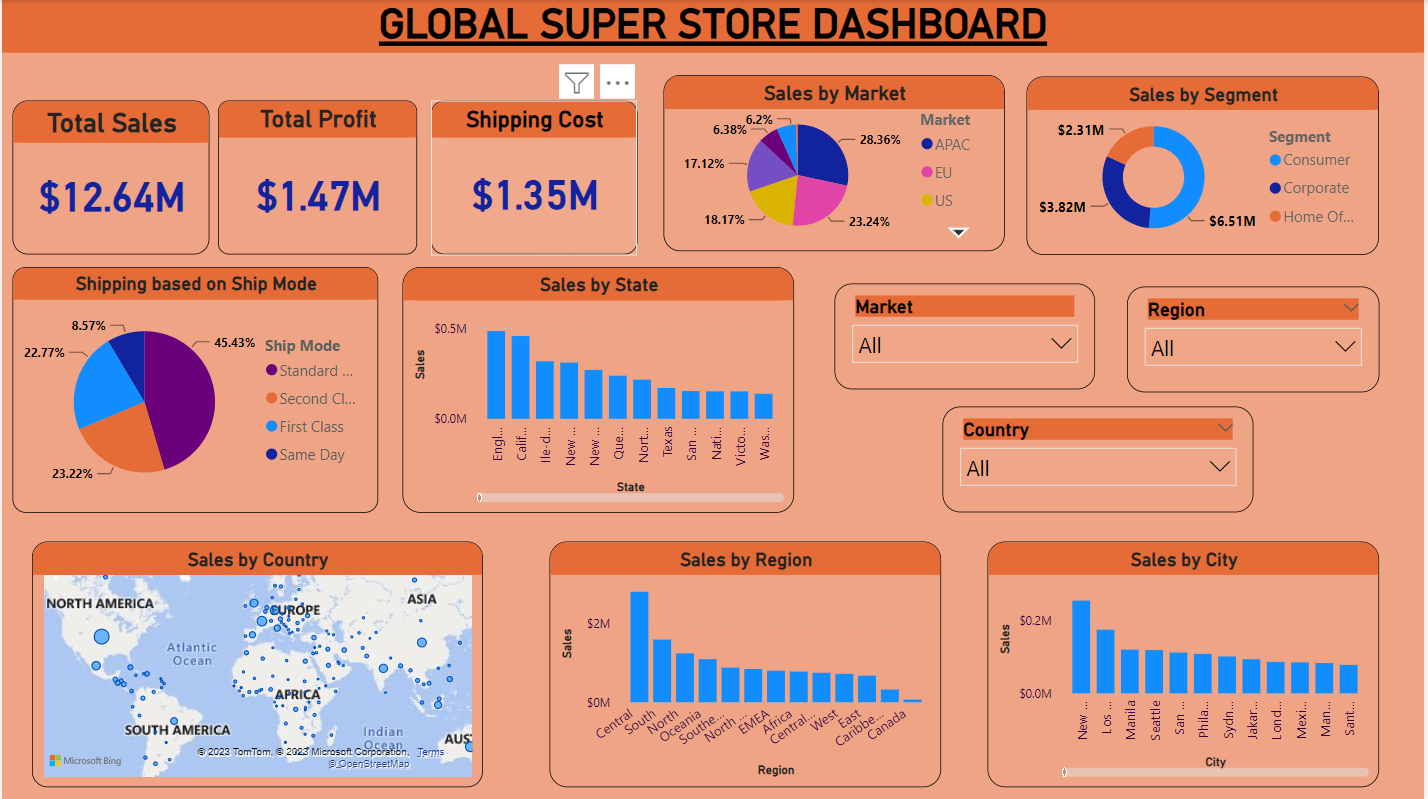

The dashboard page shown, as its layout file describes it:
{"tool":"powerbi","page":{"name":"summery","canvas":[1280,720],"ordinal":0},"visuals":[{"type":"card","title":"Total Profit","fields":{"Values":["Sum(Orders.Profit)"]},"box":[194.9,90.8,179.6,138.8],"z":1},{"type":"card","title":"Shipping Cost","fields":{"Values":["Sum(Orders.Shipping Cost)"]},"box":[385.7,90.8,185.7,138.8],"z":2},{"type":"card","title":"Total Sales","fields":{"Values":["Sum(Orders.Sales)"]},"box":[9.2,90.8,177.6,138.8],"z":3},{"type":"pieChart","title":"Shipping based on Ship Mode","fields":{"Category":["Orders.Ship Mode"],"Y":["Sum(Orders.Shipping Cost)"]},"box":[9.5,240.5,329.6,221.5],"z":4},{"type":"pieChart","title":"Sales by Market","fields":{"Category":["Orders.Market"],"Y":["Sum(Orders.Sales)"]},"box":[595.1,68.1,307.4,159],"z":5},{"type":"columnChart","title":"Sales by Region","fields":{"Category":["Orders.Region"],"Y":["Sum(Orders.Sales)"]},"box":[493.6,487.6,352.8,221.1],"z":6},{"type":"slicer","fields":{"Values":["Orders.Region"]},"box":[1013,257.4,227.1,95.4],"z":7},{"type":"slicer","fields":{"Values":["Orders.Market"]},"box":[749.5,255.9,234.7,95.4],"z":8},{"type":"slicer","fields":{"Values":["Orders.Country"]},"box":[846.4,366.4,280.1,95.4],"z":9},{"type":"map","title":"Sales by Country ","fields":{"Category":["Orders.Country"],"Size":["Sum(Orders.Sales)"]},"box":[27.3,487.6,405.8,221.1],"z":10},{"type":"textbox","title":"GLOBAL SUPER STORE DASHBOARD","box":[0,0,1280.6,48.6],"z":11},{"type":"donutChart","title":"Sales by Segment","fields":{"Category":["Orders.Segment"],"Y":["Sum(Orders.Sales)"]},"box":[922.6,68.9,317.4,160.8],"z":12},{"type":"columnChart","title":"Sales by State","fields":{"Category":["Orders.State"],"Y":["Sum(Orders.Sales)"]},"box":[360.4,240.8,352.8,221.1],"z":13},{"type":"columnChart","title":"Sales by City","fields":{"Y":["Sum(Orders.Sales)"],"Category":["Orders.City"]},"box":[887.3,487.6,352.8,221.1],"z":14}]}

Visuals, with their boxes in screenshot pixels (x1, y1, x2, y2), scaled from the page's 1280x720 canvas onto the 1428x799 screenshot:
"Total Profit" card: [left=217, top=101, right=418, bottom=255]
"Shipping Cost" card: [left=430, top=101, right=637, bottom=255]
"Total Sales" card: [left=10, top=101, right=208, bottom=255]
"Shipping based on Ship Mode" pieChart: [left=11, top=267, right=378, bottom=513]
"Sales by Market" pieChart: [left=664, top=76, right=1007, bottom=252]
"Sales by Region" columnChart: [left=551, top=541, right=944, bottom=786]
slicer - Orders.Region: [left=1130, top=286, right=1383, bottom=392]
slicer - Orders.Market: [left=836, top=284, right=1098, bottom=390]
slicer - Orders.Country: [left=944, top=407, right=1257, bottom=512]
"Sales by Country " map: [left=30, top=541, right=483, bottom=786]
"GLOBAL SUPER STORE DASHBOARD" textbox: [left=0, top=0, right=1427, bottom=54]
"Sales by Segment" donutChart: [left=1029, top=76, right=1383, bottom=255]
"Sales by State" columnChart: [left=402, top=267, right=796, bottom=513]
"Sales by City" columnChart: [left=990, top=541, right=1383, bottom=786]
